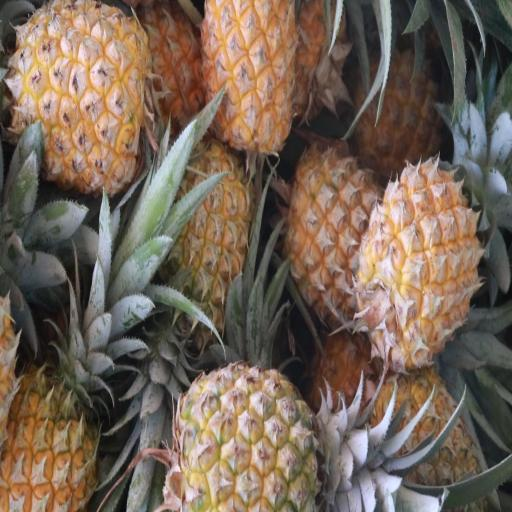------------------------------: (172, 369, 332, 509), (285, 150, 380, 330)
Pineapple - v8 v1: (14, 0, 147, 185), (359, 166, 479, 367), (161, 146, 251, 350), (203, 0, 298, 154), (0, 364, 98, 510), (355, 42, 441, 165)
